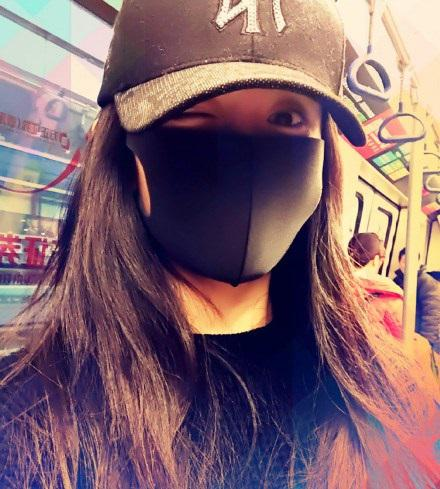OK: (139, 74, 347, 282)
